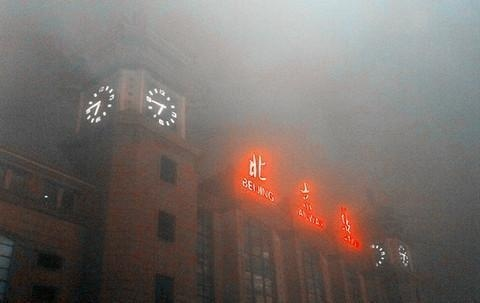fire: (289, 175, 364, 248)
